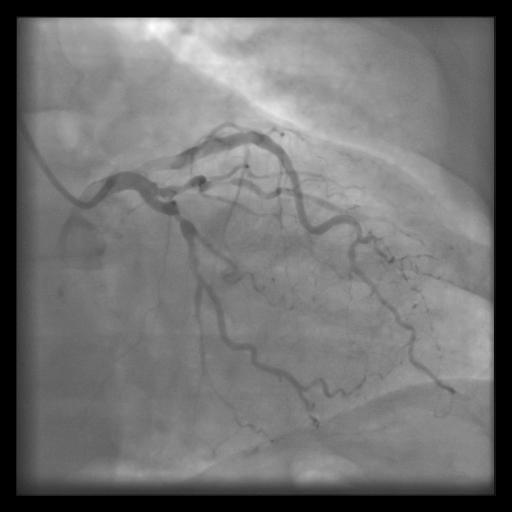Stenosis: (164, 201, 190, 233)
